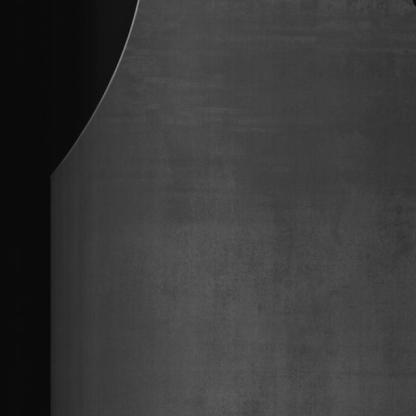crescent_gap: (40, 0, 156, 198)
